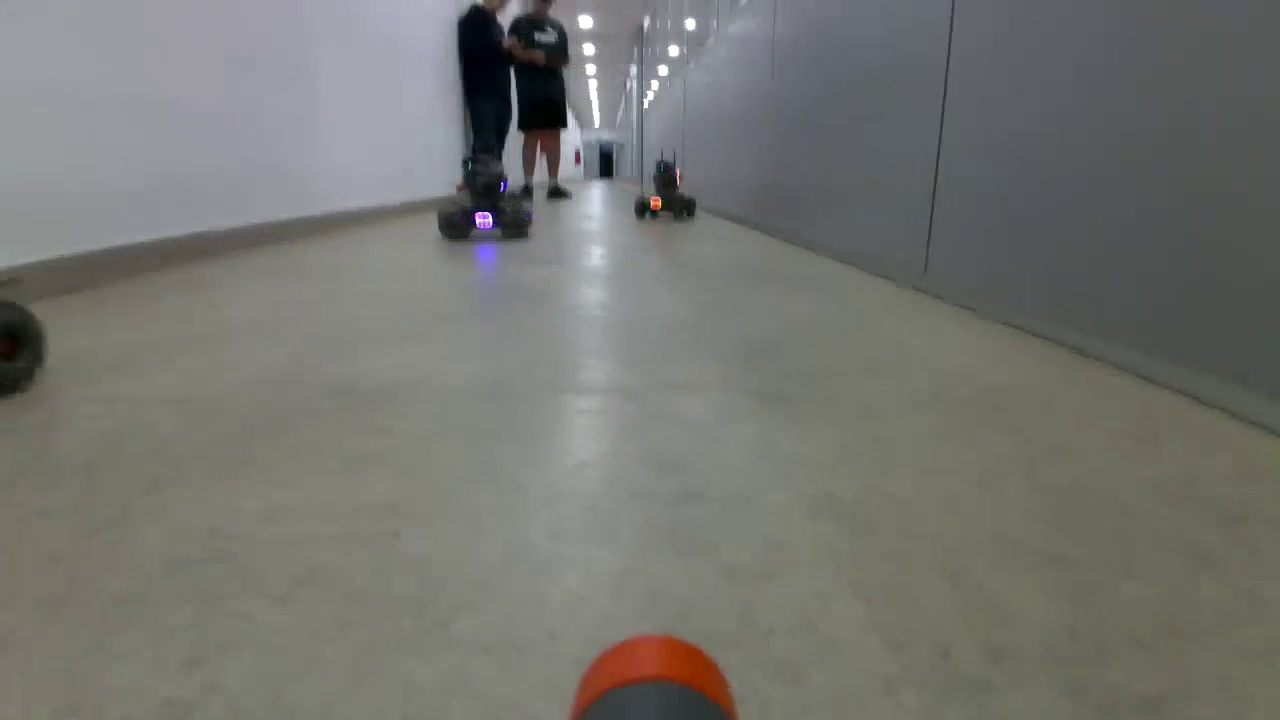robot: (438, 153, 534, 247), (631, 160, 697, 223)
